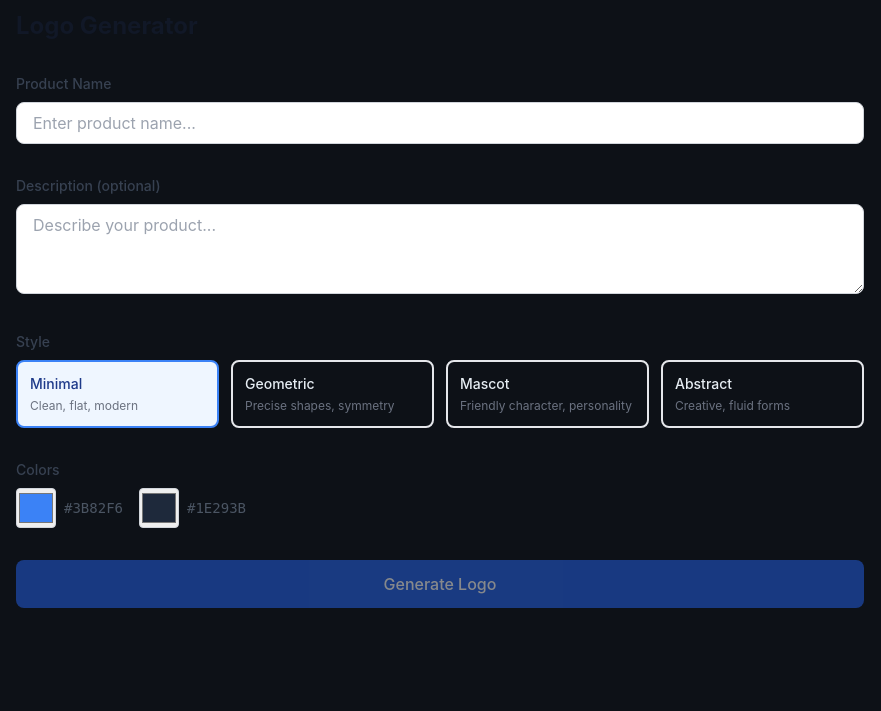
Test case: LogoGenerator › shows fallback error for non-Error rejection
This screenshot has width=881, height=711.
Type "MyApp" into the field with placeholder "Enter product name...".
click(440, 123); type("MyApp")  # box [16, 102, 864, 144]
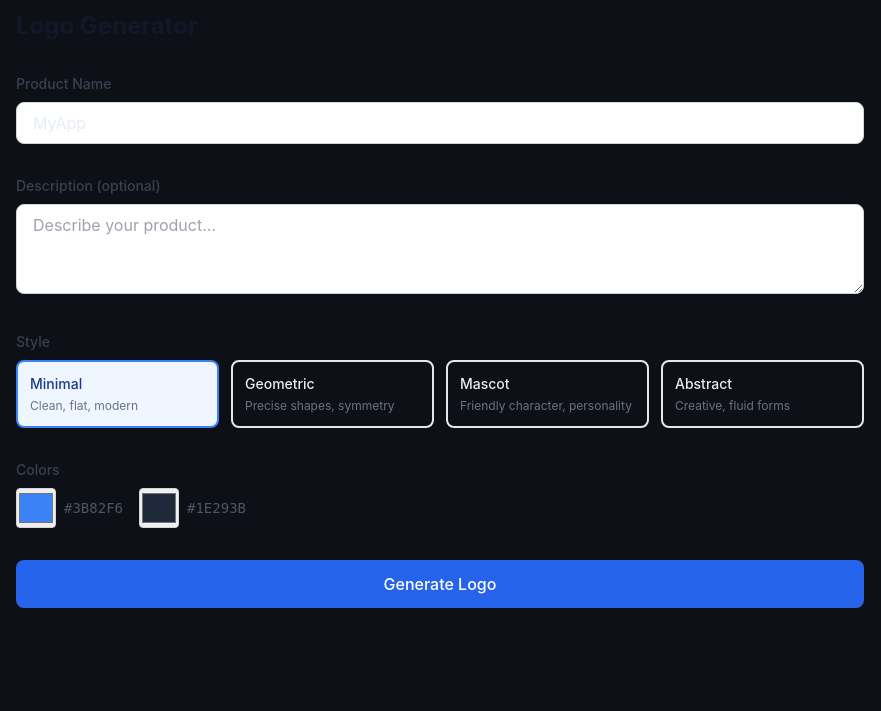
Click the button "Generate Logo".
click(440, 584)  # box [16, 560, 864, 608]
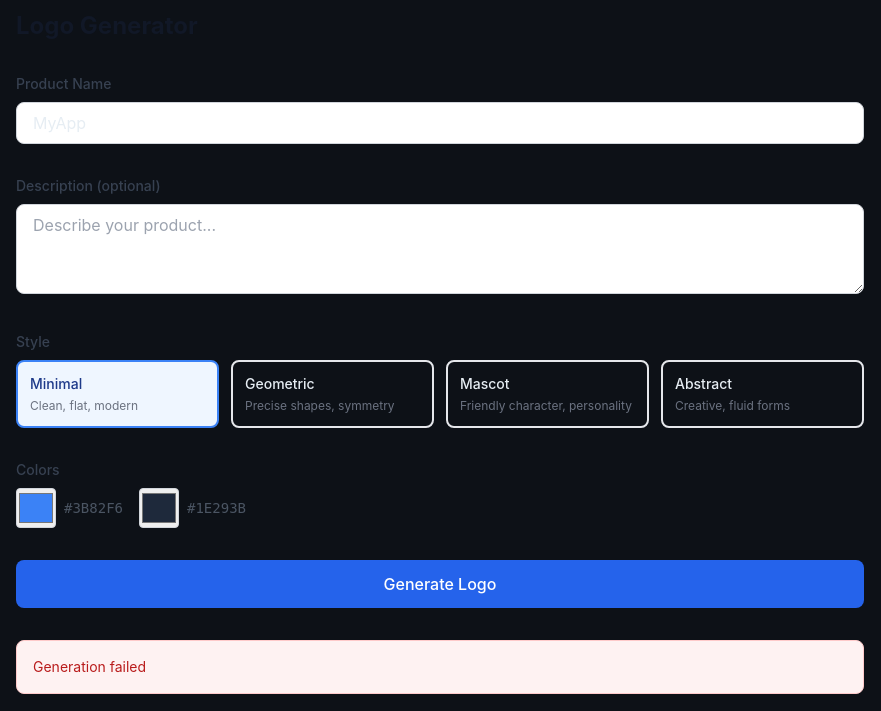
Result: the text "Generation failed" is shown at [16, 640, 864, 694]
